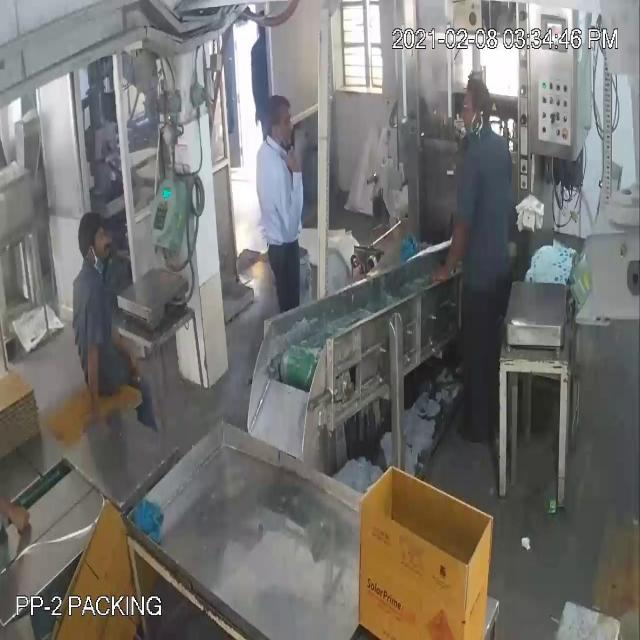No_Gloves: (22, 62, 449, 512)
